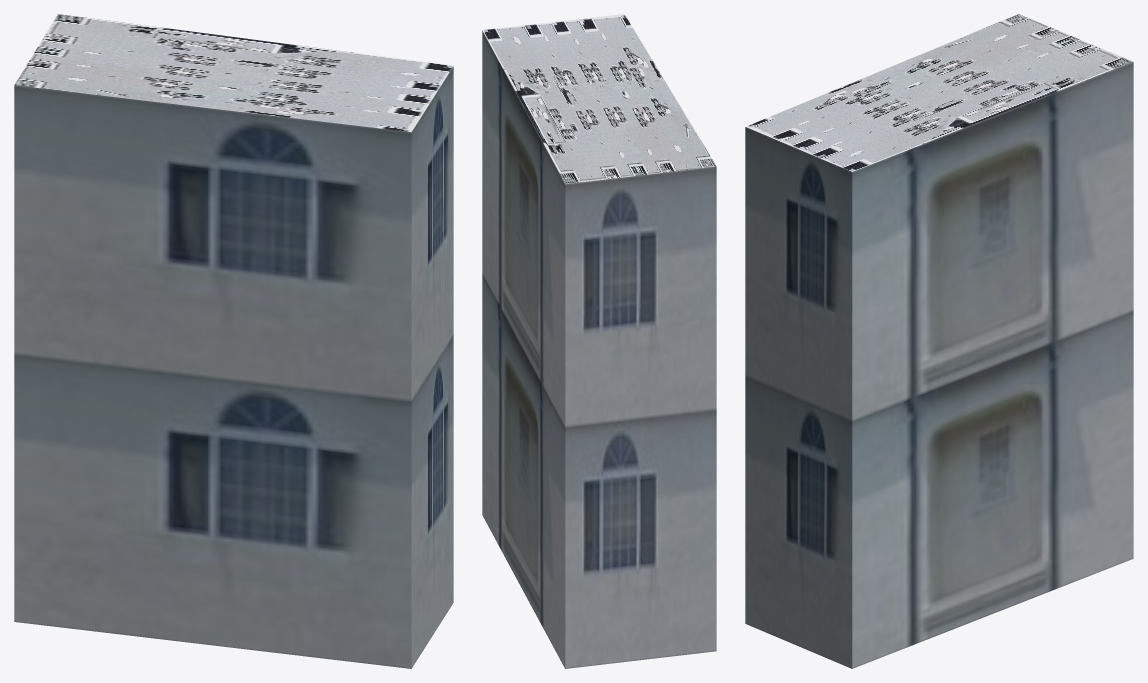
The model's file is ResTex__1255.fbx.
3 renders of one model, left to right at view 1: azimuth 30°, elevation 25°; view 2: azimuth 150°, elevation 25°; view 3: azimuth 270°, elevation 25°, orthographic. The views are drawn at different scales.
Visible parts, largest first — view 1: CityEngineMaterial_17_m, CityEngineMaterial_8_m; view 2: CityEngineMaterial_17_m, CityEngineMaterial_8_m; view 3: CityEngineMaterial_17_m, CityEngineMaterial_8_m.
Boxes of the visible parts, x1=… form: CityEngineMaterial_17_m: x1=14, y1=66, x2=453, y2=668; CityEngineMaterial_8_m: x1=14, y1=14, x2=453, y2=132; CityEngineMaterial_17_m: x1=482, y1=31, x2=716, y2=668; CityEngineMaterial_8_m: x1=482, y1=14, x2=716, y2=184; CityEngineMaterial_17_m: x1=745, y1=62, x2=1133, y2=668; CityEngineMaterial_8_m: x1=746, y1=14, x2=1133, y2=171.
Size of the model in its own units: 4.09 by 6 by 4.25.
2 materials, 2 textured.
